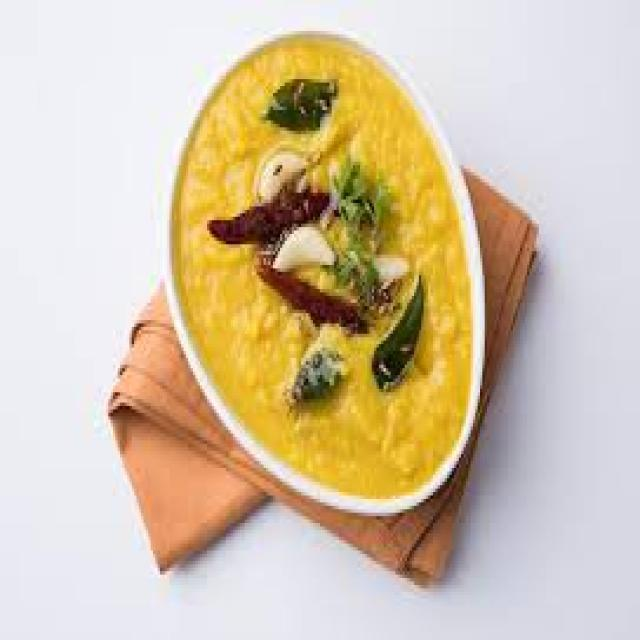dal: (202, 78, 458, 476)
